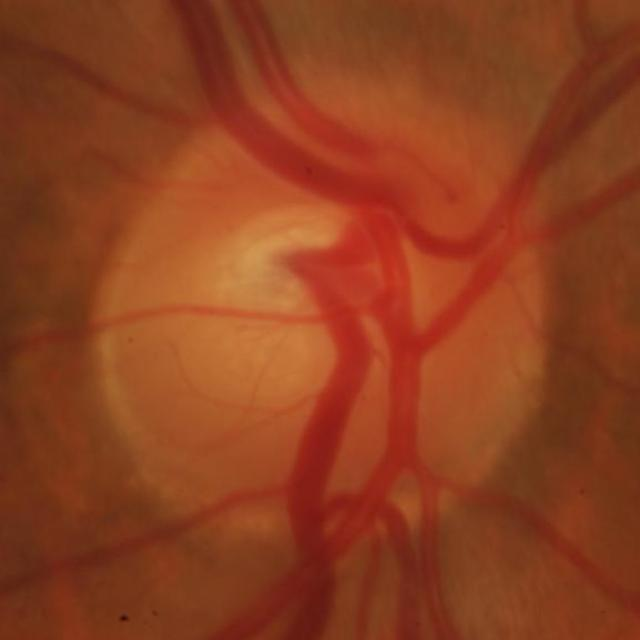OC: (200, 210, 347, 324)
OD: (98, 95, 556, 557)
